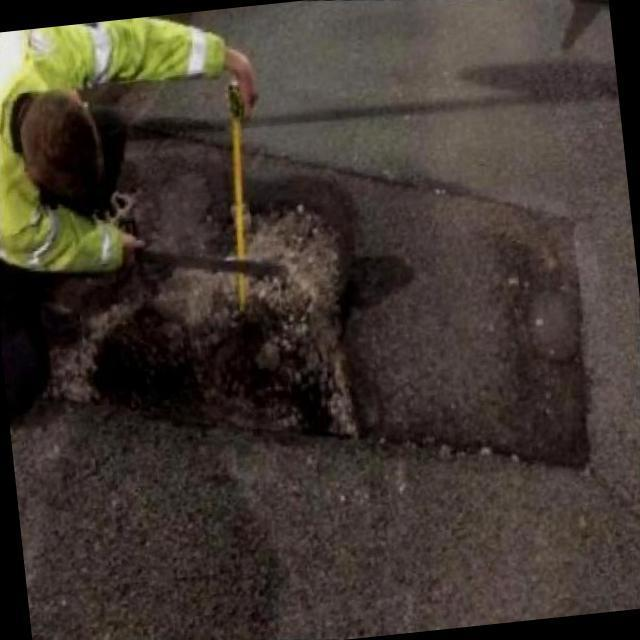Pothole: (93, 301, 340, 434)
